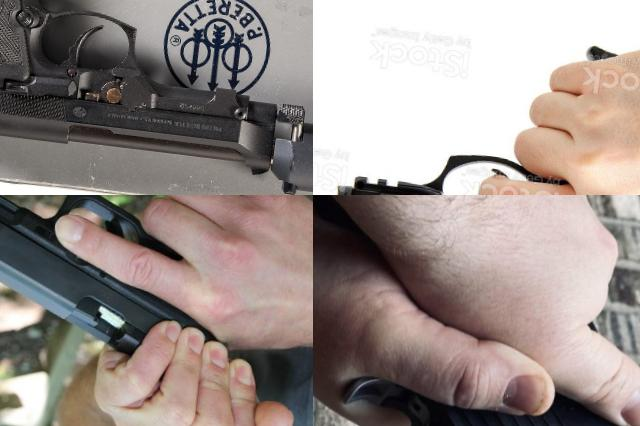handgun: (313, 195, 640, 426), (313, 9, 640, 195), (0, 0, 303, 179), (0, 195, 249, 386)
